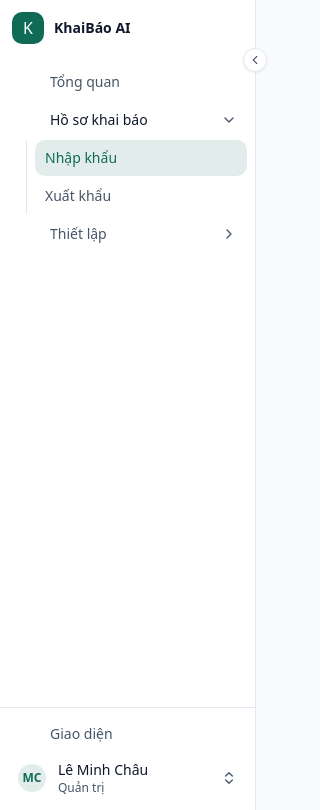
it: Sidebar › nhóm chứa trang đang mở tự mở sẵn; bấm để đóng/mở
The image size is (320, 810).
Click the button "Hồ sơ khai báo".
click(128, 120)  # box [8,102,247,138]
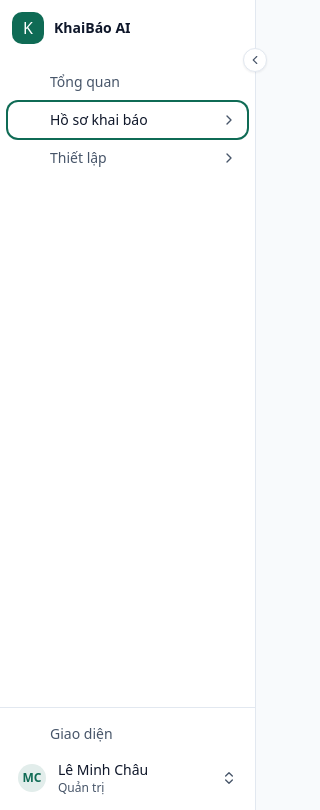
Expected: the button "Hồ sơ khai báo" is collapsed, [8,102,247,138]
Expected: the link "Nhập khẩu" is gone
